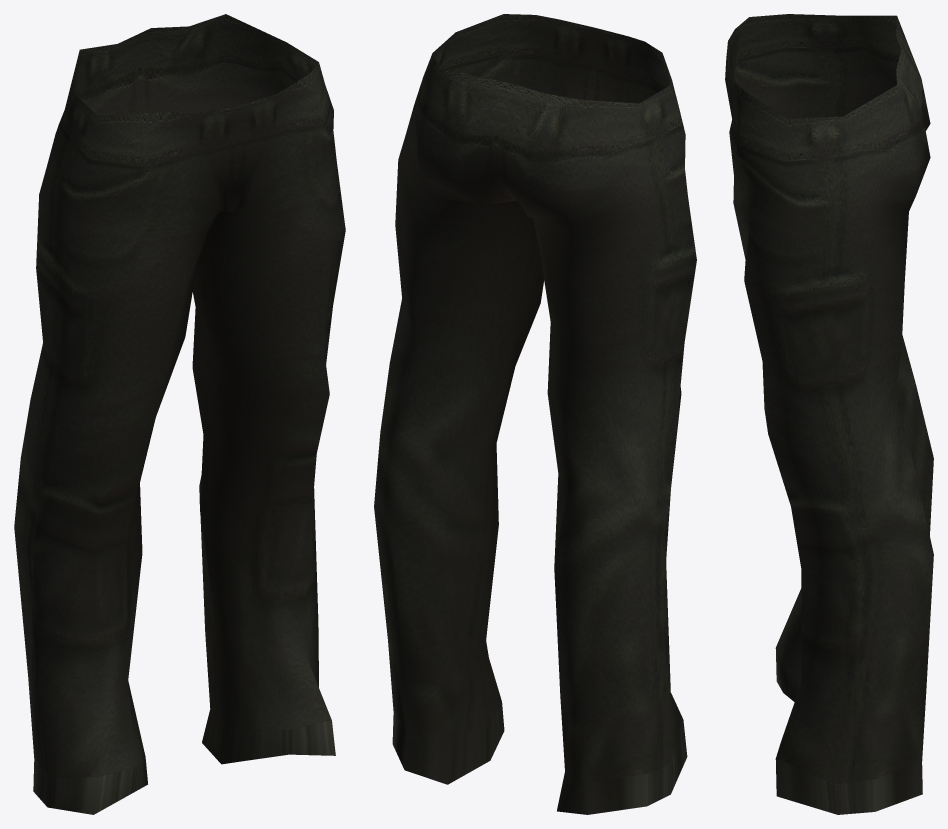
File: bottom_cargo.gltf
The picture shows the model from 3 angles, left to right: view 1: azimuth 30°, elevation 25°; view 2: azimuth 150°, elevation 25°; view 3: azimuth 270°, elevation 25°; orthographic projection. The views are drawn at different scales.
Visible parts, largest first — view 1: bottom_cargo; view 2: bottom_cargo; view 3: bottom_cargo.
Part boxes in pixels (<box>): bottom_cargo: <box>14,14,345,814</box>; bottom_cargo: <box>374,14,696,814</box>; bottom_cargo: <box>725,14,933,814</box>.
Size of the model in its own units: 0.3979 by 0.9896 by 0.2634.
Materials: 1 (1 with a texture image).
